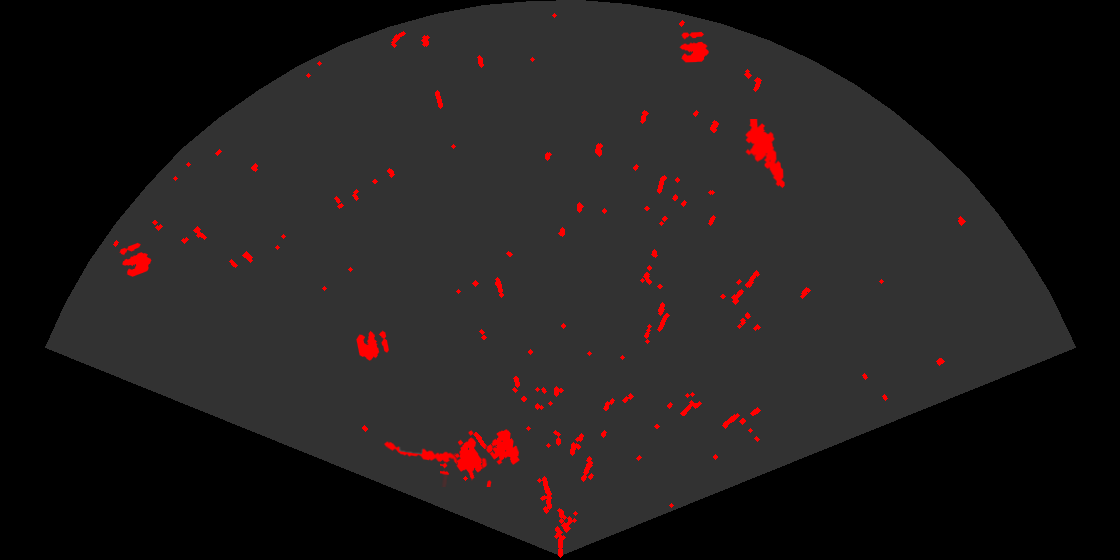ball: (118, 241, 153, 278), (355, 329, 391, 362), (678, 30, 710, 64)
cage: (440, 428, 521, 487)
chain: (382, 440, 489, 471)
frogman: (744, 119, 786, 190)
